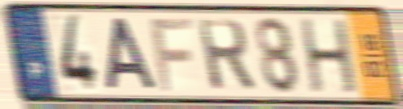4: (58, 10, 101, 96)
8: (253, 14, 301, 97)
A: (104, 15, 160, 93)
F: (147, 15, 197, 94)
H: (297, 16, 361, 97)
R: (194, 16, 258, 94)
